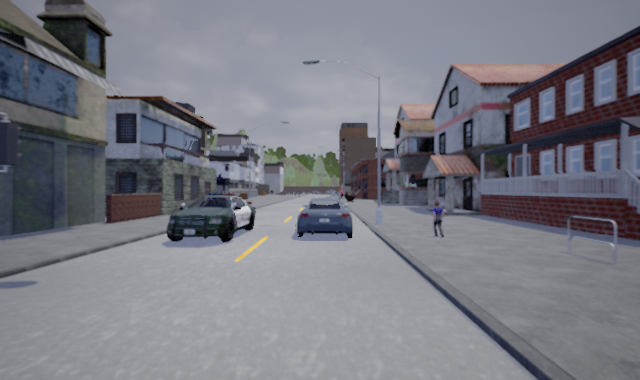pedestrian: (424, 197, 451, 237)
vehicle: (163, 192, 260, 243), (294, 196, 354, 240)
